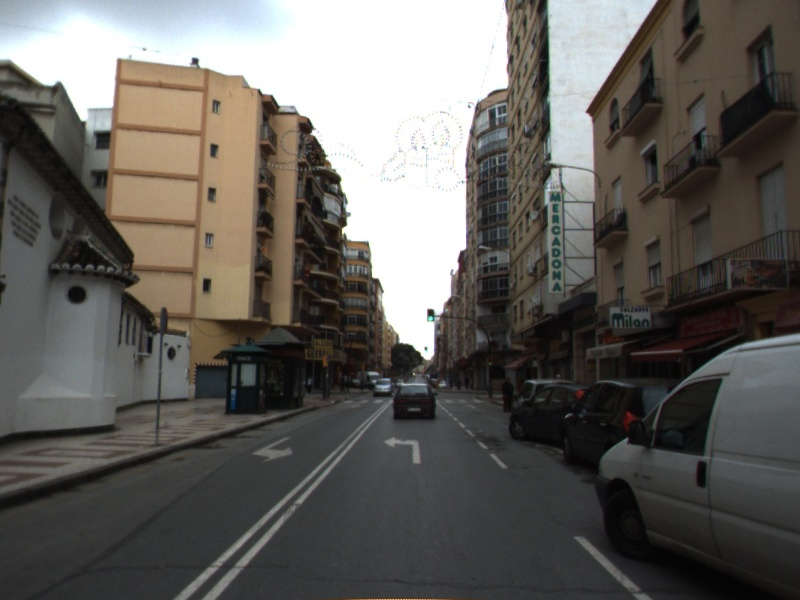LEFT: (382, 434, 422, 465)
